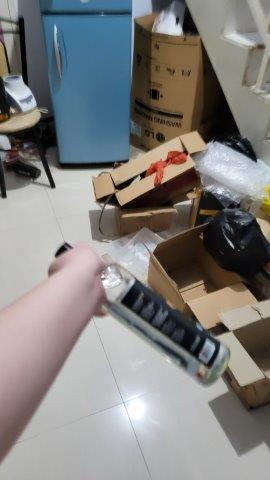botolkaca: (51, 241, 233, 388)
